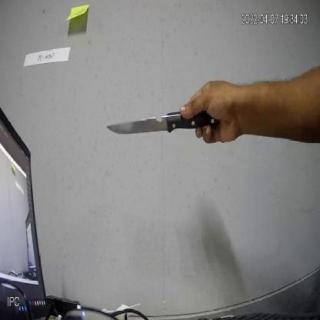knife: (97, 94, 225, 151)
